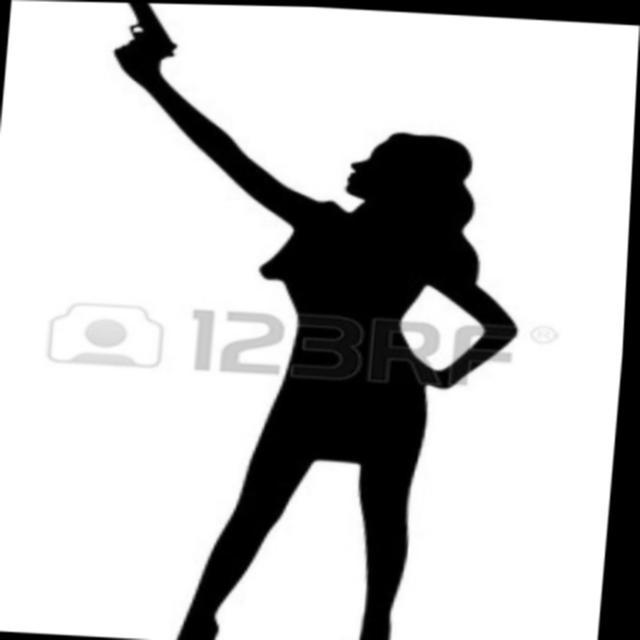weapon: (116, 2, 179, 57)
